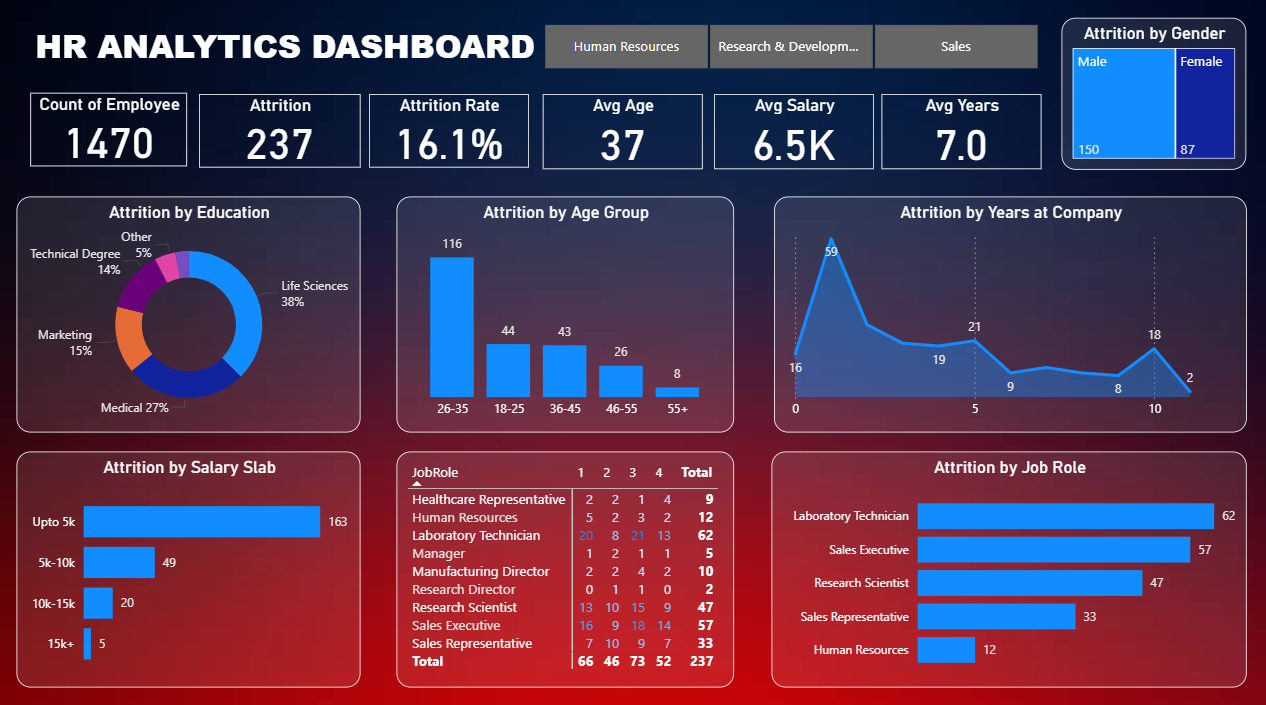

Layout of this report page (visuals, bound fields, positions):
{"tool":"powerbi","page":{"name":"Page 1","canvas":[1280,720],"ordinal":0},"visuals":[{"type":"card","title":"Count of Employee ","fields":{"Values":["Count(HR_Analytics.EmpID)"]},"box":[31.7,98.7,157.1,73.8],"z":0},{"type":"card","title":"Attrition","fields":{"Values":["Sum(HR_Analytics.Attrition_Count)"]},"box":[199.8,100,161.2,73.8],"z":1000},{"type":"card","title":"Attrition Rate ","fields":{"Values":["HR_Analytics.Attrition_Rate"]},"box":[370.6,100,159.9,73.8],"z":2000},{"type":"donutChart","title":"Attrition by Education","fields":{"Y":["Sum(HR_Analytics.Attrition_Count)"],"Category":["HR_Analytics.EducationField"]},"box":[17.8,202.2,344.3,236.4],"z":3000},{"type":"columnChart","title":"Attrition by Age Group","fields":{"Category":["HR_Analytics.AgeGroup"],"Y":["Sum(HR_Analytics.Attrition_Count)"]},"box":[397.6,202.2,337.5,236.4],"z":4000},{"type":"pivotTable","fields":{"Rows":["HR_Analytics.JobRole"],"Columns":["HR_Analytics.JobSatisfaction"],"Values":["Sum(HR_Analytics.Attrition_Count)"]},"box":[397.6,457.7,337.5,236.4],"z":5000},{"type":"card","title":"Avg Age","fields":{"Values":["Avg(HR_Analytics.Age)"]},"box":[544.1,100,159.9,75.1],"z":6000},{"type":"card","title":"Avg Salary","fields":{"Values":["Avg(HR_Analytics.MonthlyIncome)"]},"box":[714.9,100,159.9,75.1],"z":7000},{"type":"card","title":"Avg Years","fields":{"Values":["Avg(HR_Analytics.YearsAtCompany)"]},"box":[882.9,100,159.9,75.1],"z":8000},{"type":"barChart","title":"Attrition by Salary Slab","fields":{"Category":["HR_Analytics.SalarySlab"],"Y":["Sum(HR_Analytics.Attrition_Count)"]},"box":[17.8,457.7,344.3,236.4],"z":9000},{"type":"barChart","title":"Attrition by Job Role","fields":{"Category":["HR_Analytics.JobRole"],"Y":["Sum(HR_Analytics.Attrition_Count)"]},"box":[772,457.7,475.5,236.4],"z":10000},{"type":"areaChart","title":"Attrition by Years at Company","fields":{"Category":["HR_Analytics.YearsAtCompany"],"Y":["Sum(HR_Analytics.Attrition_Count)"]},"box":[774.7,202.2,472.8,236.4],"z":11000},{"type":"treemap","title":"Attrition by Gender","fields":{"Group":["HR_Analytics.Gender"],"Values":["Sum(HR_Analytics.Attrition_Count)"]},"box":[1063,23.2,184.5,151.7],"z":12000},{"type":"slicer","fields":{"Values":["HR_Analytics.Department"]},"box":[520.6,23.2,542.4,57.4],"z":13000},{"type":"textbox","box":[31.4,23.2,512.4,60.1],"z":14000}]}

Visuals, with their boxes in screenshot pixels (x1, y1, x2, y2), scaled from the page's 1280x720 canvas onto the 1266x705 screenshot:
"Count of Employee " card: box=[31, 97, 187, 169]
"Attrition" card: box=[198, 98, 357, 170]
"Attrition Rate " card: box=[367, 98, 525, 170]
"Attrition by Education" donutChart: box=[18, 198, 358, 429]
"Attrition by Age Group" columnChart: box=[393, 198, 727, 429]
pivotTable - HR_Analytics.JobRole x HR_Analytics.JobSatisfaction: box=[393, 448, 727, 680]
"Avg Age" card: box=[538, 98, 696, 171]
"Avg Salary" card: box=[707, 98, 865, 171]
"Avg Years" card: box=[873, 98, 1031, 171]
"Attrition by Salary Slab" barChart: box=[18, 448, 358, 680]
"Attrition by Job Role" barChart: box=[764, 448, 1234, 680]
"Attrition by Years at Company" areaChart: box=[766, 198, 1234, 429]
"Attrition by Gender" treemap: box=[1051, 23, 1234, 171]
slicer - HR_Analytics.Department: box=[515, 23, 1051, 79]
textbox: box=[31, 23, 538, 82]
